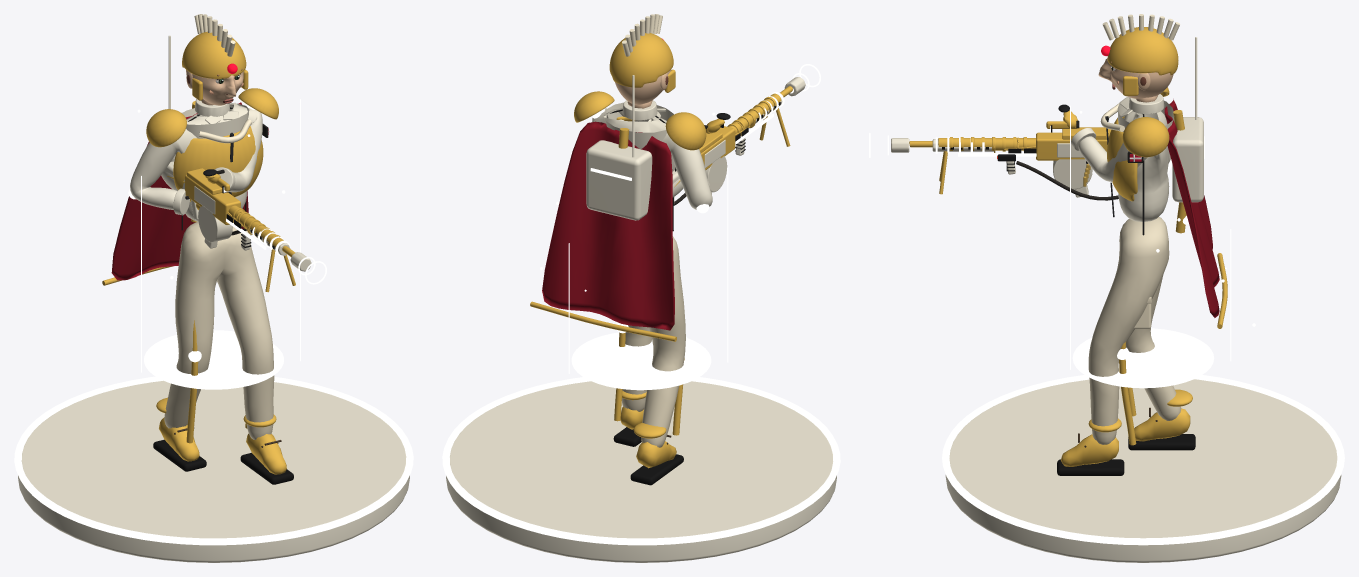
Rendered from garder_guld.glb.
The picture shows the model from 3 angles, left to right: view 1: azimuth 30°, elevation 25°; view 2: azimuth 150°, elevation 25°; view 3: azimuth 270°, elevation 25°; orthographic projection.
Parts seen in each view (by area): view 1: fod_net, menneske_net, op2.001_net, op4.001_net, hoved_net, vaaben_net, op4.002_net, op3.001_net, op4_net; view 2: fod_net, op2.001_net, menneske_net, op4.001_net, op3_net, hoved_net, vaaben_net, op4.002_net, op3.001_net, op4_net; view 3: fod_net, menneske_net, op2.001_net, op4.001_net, hoved_net, vaaben_net, op3_net, op4.002_net, op3.001_net, op4_net, op1_net.
Part boxes in pixels (<box>): fod_net: <box>14,376,413,562</box>; menneske_net: <box>130,99,293,484</box>; op2.001_net: <box>102,88,278,285</box>; op4.001_net: <box>137,99,300,389</box>; hoved_net: <box>182,14,248,105</box>; vaaben_net: <box>161,161,295,292</box>; op4.002_net: <box>128,101,255,443</box>; op3.001_net: <box>194,186,311,271</box>; op4_net: <box>226,218,326,284</box>; fod_net: <box>442,377,840,562</box>; op2.001_net: <box>530,91,706,341</box>; menneske_net: <box>592,100,730,485</box>; op4.001_net: <box>540,92,728,390</box>; op3_net: <box>586,75,652,220</box>; hoved_net: <box>609,14,675,104</box>; vaaben_net: <box>672,86,792,197</box>; op4.002_net: <box>592,108,709,435</box>; op3.001_net: <box>704,77,805,167</box>; op4_net: <box>735,64,820,144</box>; fod_net: <box>942,375,1344,562</box>; menneske_net: <box>1057,94,1195,475</box>; op2.001_net: <box>1100,87,1227,328</box>; op4.001_net: <box>1070,105,1255,388</box>; hoved_net: <box>1098,14,1180,98</box>; vaaben_net: <box>909,121,1170,194</box>; op3_net: <box>1172,37,1204,202</box>; op4.002_net: <box>1107,110,1188,445</box>; op3.001_net: <box>891,138,1083,157</box>; op4_net: <box>869,133,1172,173</box>; op1_net: <box>1008,148,1118,200</box>.
Size of the model in its own units: 1.94 by 2.47 by 2.29.
